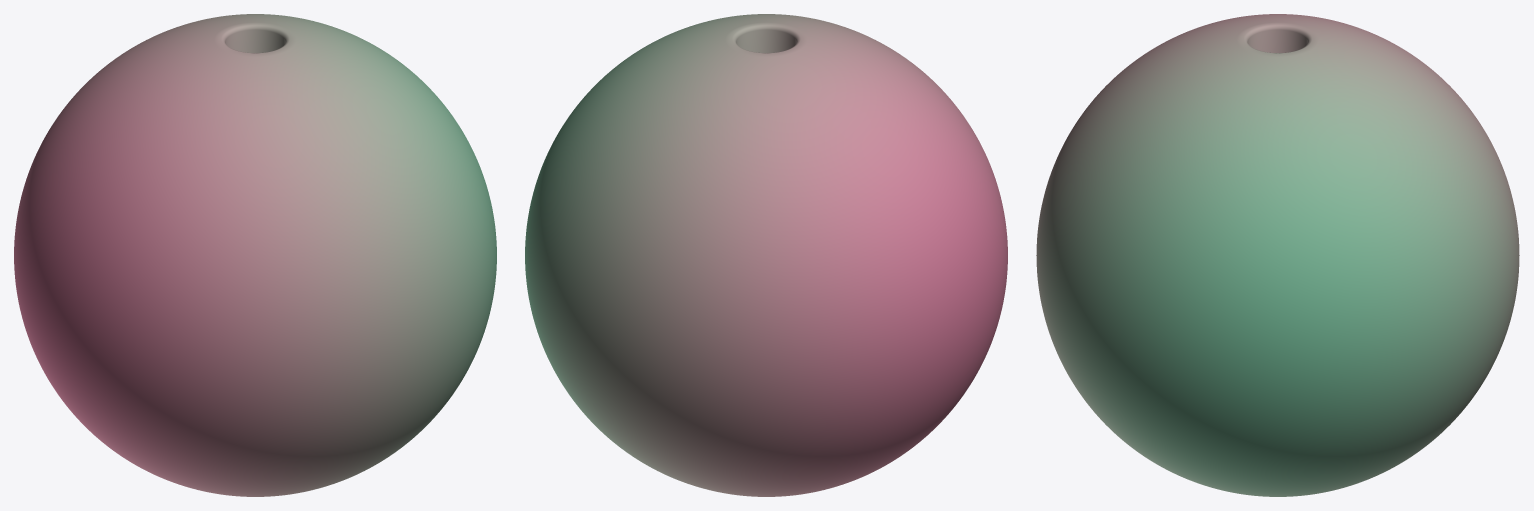
File: tourmaline-clear-8mm.glb
The picture shows the model from 3 angles, left to right: view 1: azimuth 30°, elevation 25°; view 2: azimuth 150°, elevation 25°; view 3: azimuth 270°, elevation 25°; orthographic projection.
Parts seen in each view (by area): view 1: 冰透多色碧玺; view 2: 冰透多色碧玺; view 3: 冰透多色碧玺.
Boxes of the visible parts, left/top/right/bottom form: 冰透多色碧玺: left=14, top=14, right=496, bottom=496; 冰透多色碧玺: left=525, top=14, right=1007, bottom=496; 冰透多色碧玺: left=1036, top=14, right=1519, bottom=496.
Bounding box in the file's own units: 0.008 × 0.00792 × 0.008.
